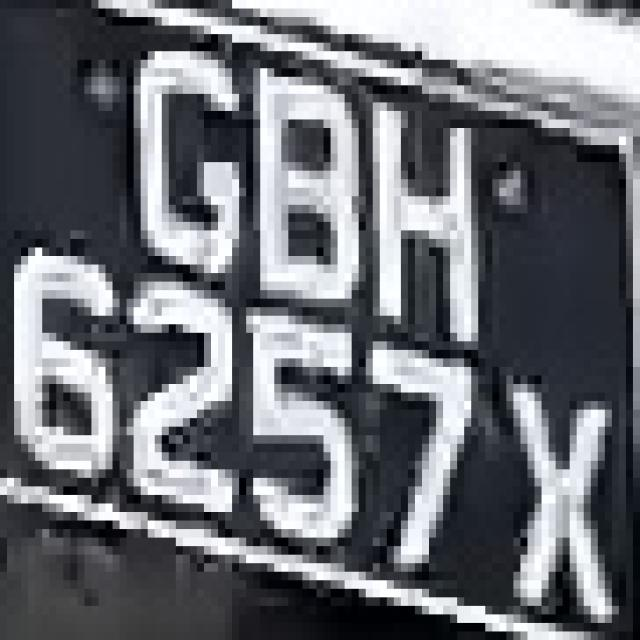2: (106, 256, 232, 546)
5: (239, 282, 366, 554)
6: (14, 205, 113, 512)
7: (345, 324, 485, 589)
B: (253, 60, 366, 358)
G: (120, 17, 260, 282)
H: (345, 77, 492, 358)
X: (506, 341, 626, 640)
